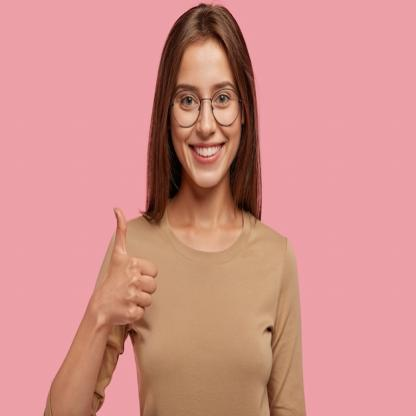thumb_up: (95, 202, 160, 328)
